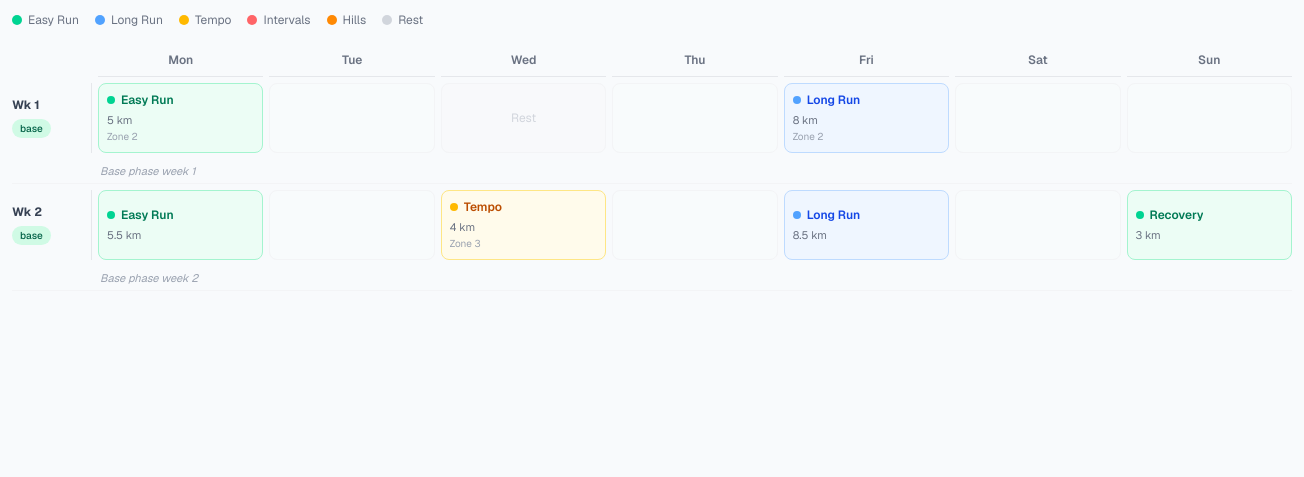
Scenario: PlanCalendar › shows workout detail on click
The width and height of the screenshot is (1304, 477).
What coordinates should you click on to do the following:
click the button "Easy Run 5 km Zone 2"
I would click on:
 (181, 118)
Its box is [98, 83, 263, 152].
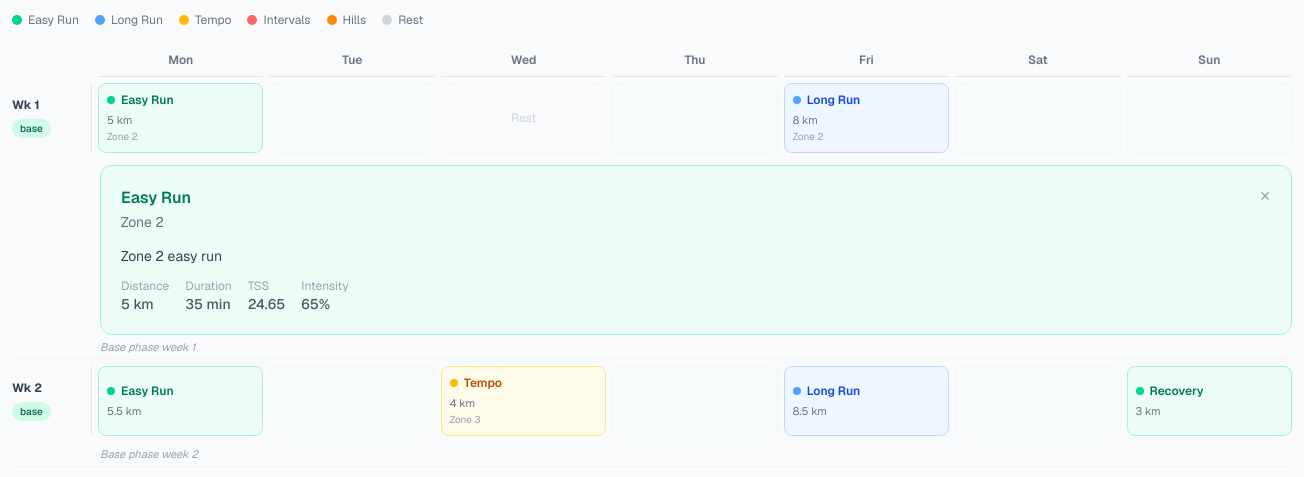
Check: the text "Zone 2 easy run" is shown, box [121, 246, 222, 264]
Check: the text "35 min" is shown, box [185, 294, 231, 312]
